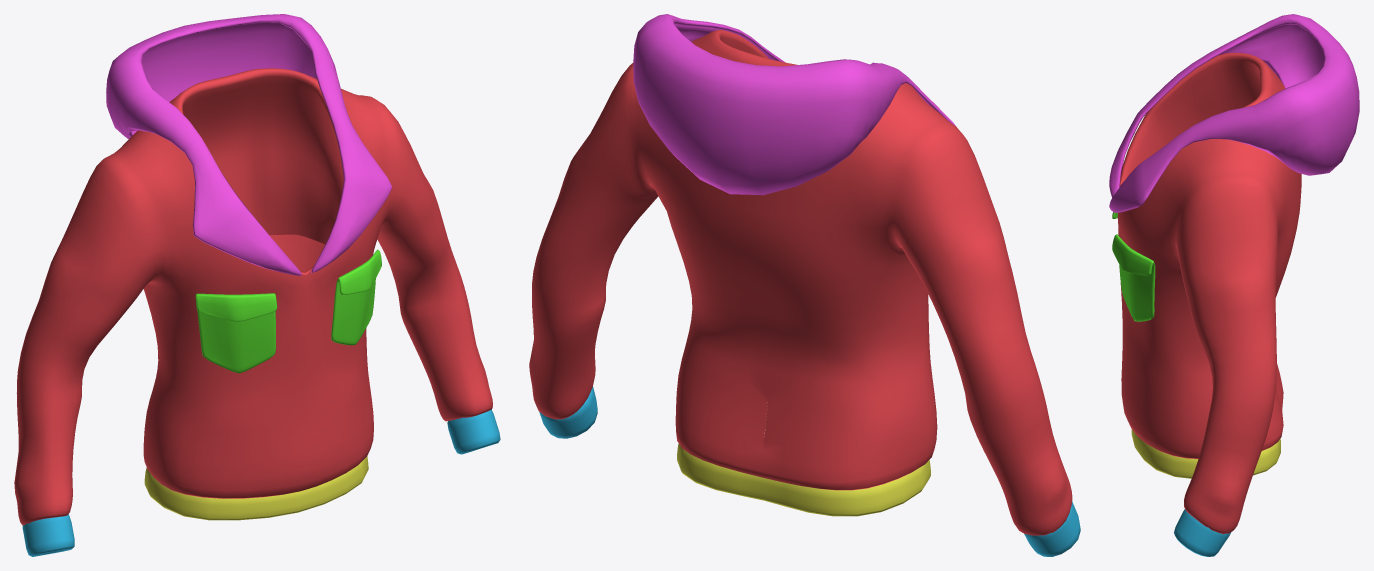
Rendered from Male_Hoodie.glb.
3 renders of one model, left to right at view 1: azimuth 30°, elevation 25°; view 2: azimuth 150°, elevation 25°; view 3: azimuth 270°, elevation 25°, orthographic. The views are drawn at different scales.
Visible parts, largest first — view 1: Male_Hoodie; view 2: Male_Hoodie; view 3: Male_Hoodie.
Part boxes in pixels (x1,y1,x2,y2): Male_Hoodie: (14, 14, 500, 556); Male_Hoodie: (529, 14, 1080, 556); Male_Hoodie: (1109, 14, 1359, 556).
Size of the model in its own units: 7.86 by 6.98 by 3.9.
